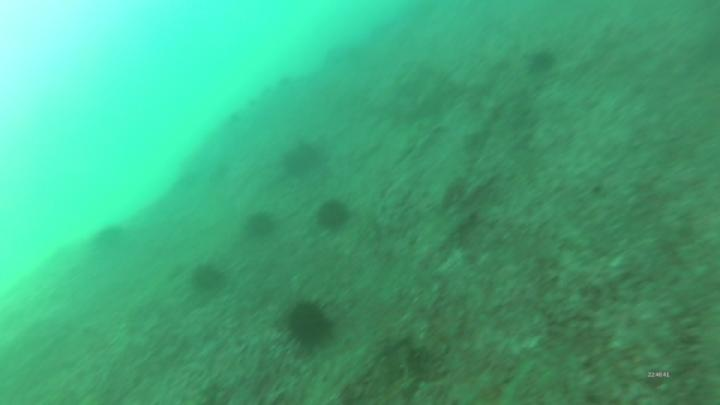echinus: (275, 296, 340, 356), (313, 200, 356, 235), (280, 144, 321, 179), (189, 261, 228, 297), (241, 210, 277, 241), (525, 50, 559, 79), (91, 225, 124, 250)
